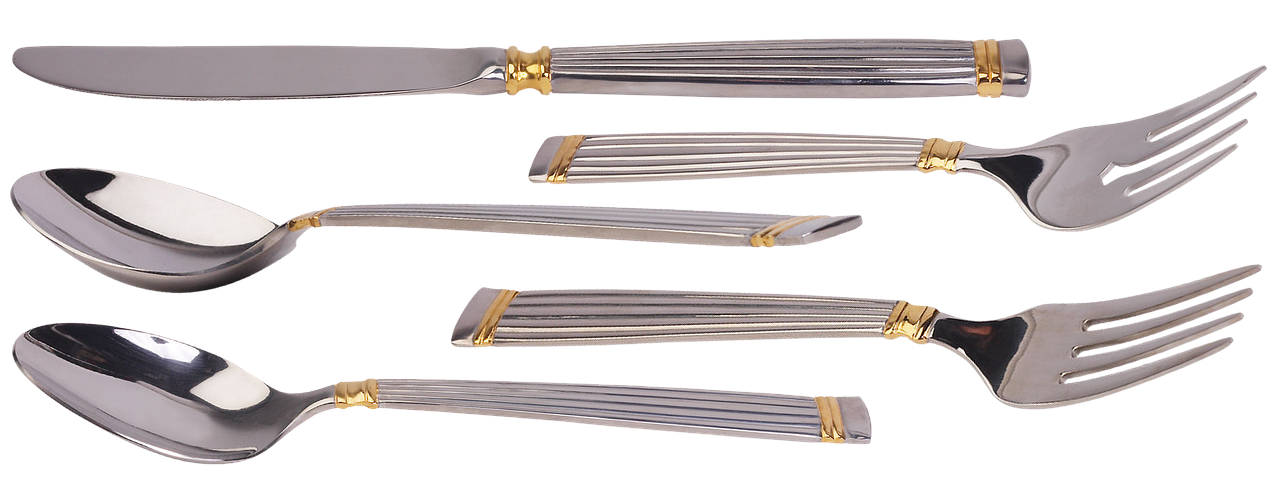knife: (0, 44, 1047, 108)
